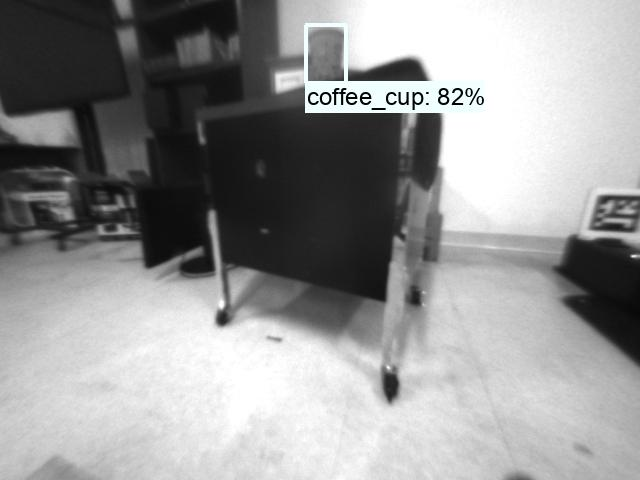coffee_cup: (304, 29, 345, 83)
